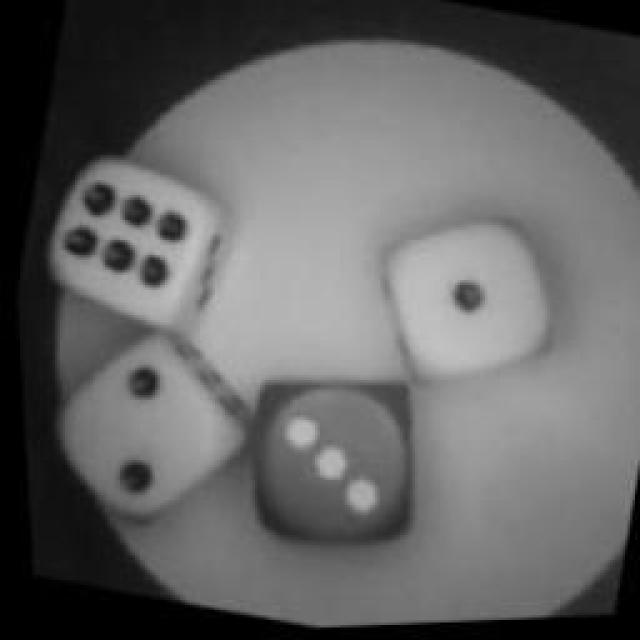dice_1: (358, 194, 572, 416)
dice_2: (28, 315, 244, 547)
dice_3: (216, 351, 446, 571)
dice_6: (32, 138, 246, 352)
